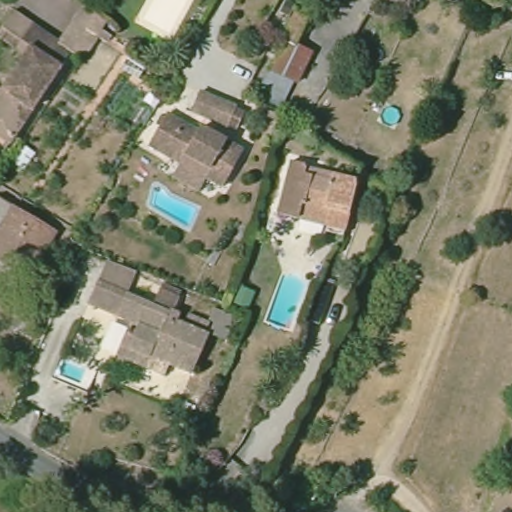pool: (263, 265, 307, 337), (144, 180, 204, 232), (51, 351, 98, 390), (378, 99, 402, 131)
